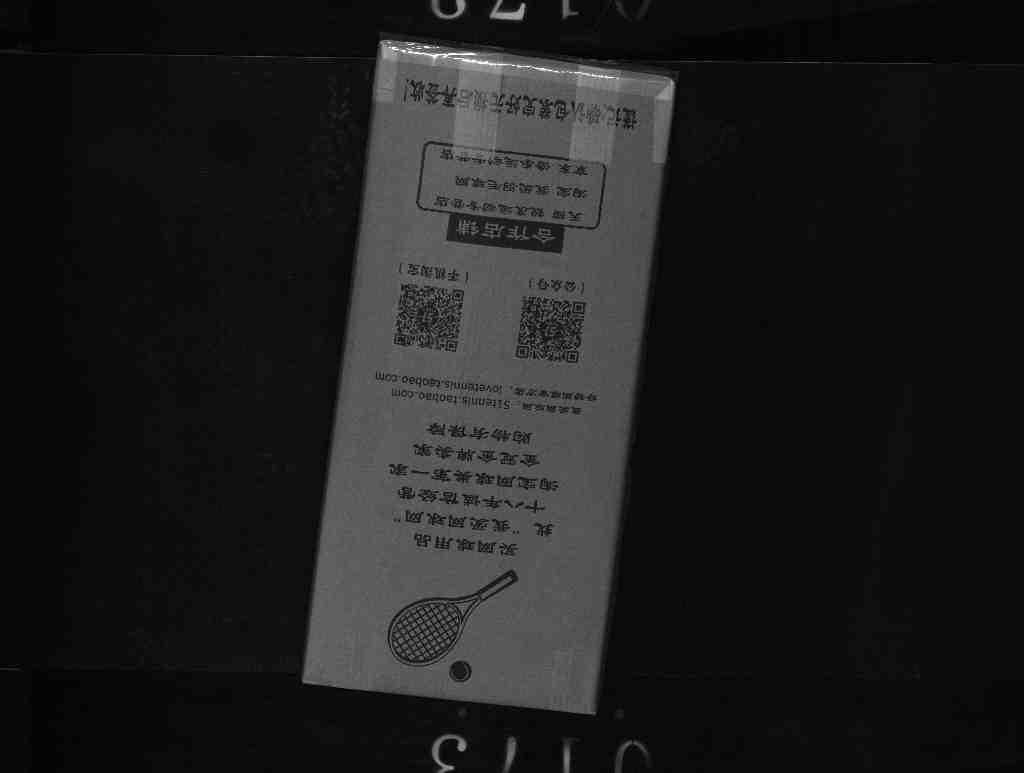box: (259, 28, 684, 738)
